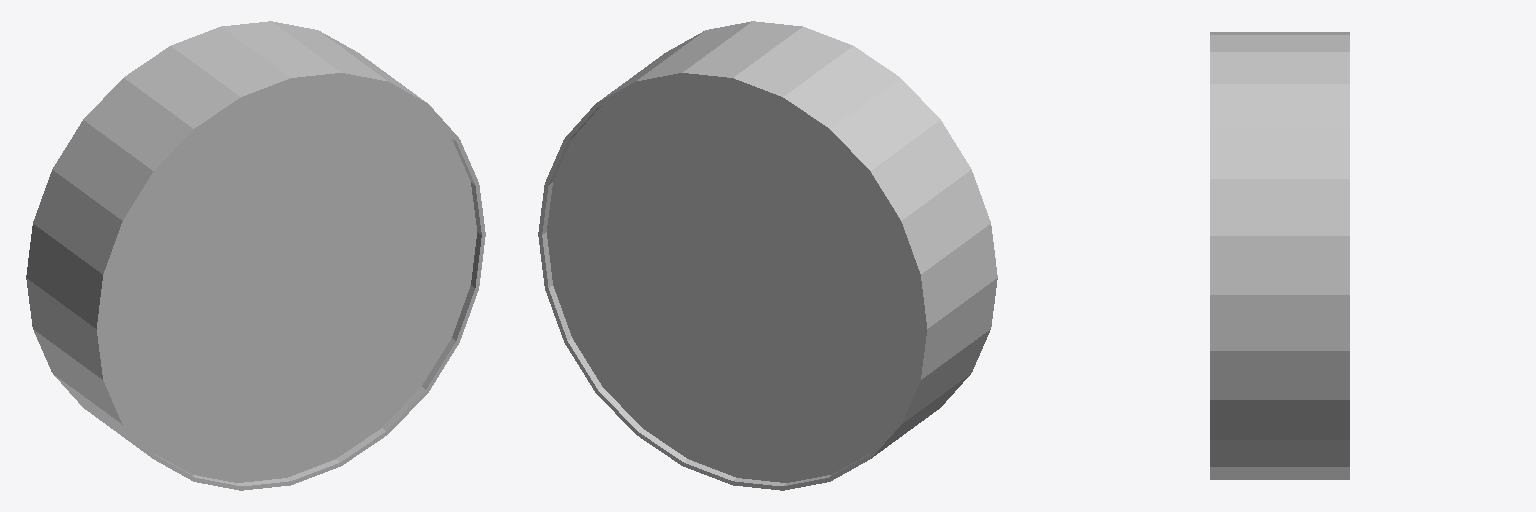
Rendered from thuna_can.obj.
3 views of the same model, side by side, from view 1: azimuth 30°, elevation 25°; view 2: azimuth 150°, elevation 25°; view 3: azimuth 270°, elevation 25° (orthographic).
Parts seen in each view (by area): view 1: Cylinder001; view 2: Cylinder001; view 3: Cylinder001.
Part boxes in pixels (x1,y1,x2,y2): Cylinder001: (26,21,485,490); Cylinder001: (538,21,997,490); Cylinder001: (1210,32,1349,479).
Bounding box in the file's own units: 19.78 × 19.78 × 6.2.